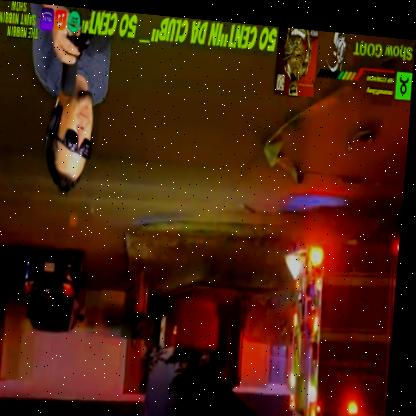streamer: (16, 3, 114, 197)
